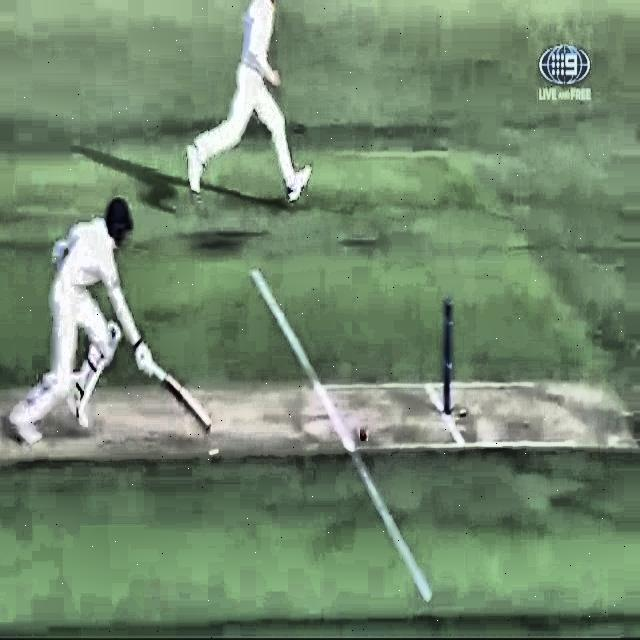Ball: (355, 420, 374, 448)
Bat: (127, 342, 217, 436)
Pitch_Line: (245, 267, 438, 603)
Undis_Wicket: (433, 293, 469, 418)
